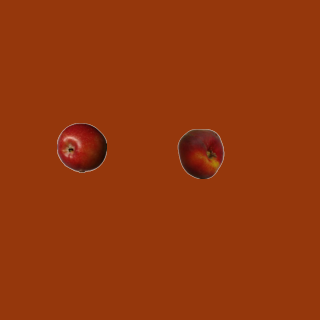Apple Braeburn: (56, 122, 106, 172)
Nectarine Flat: (175, 128, 225, 178)
